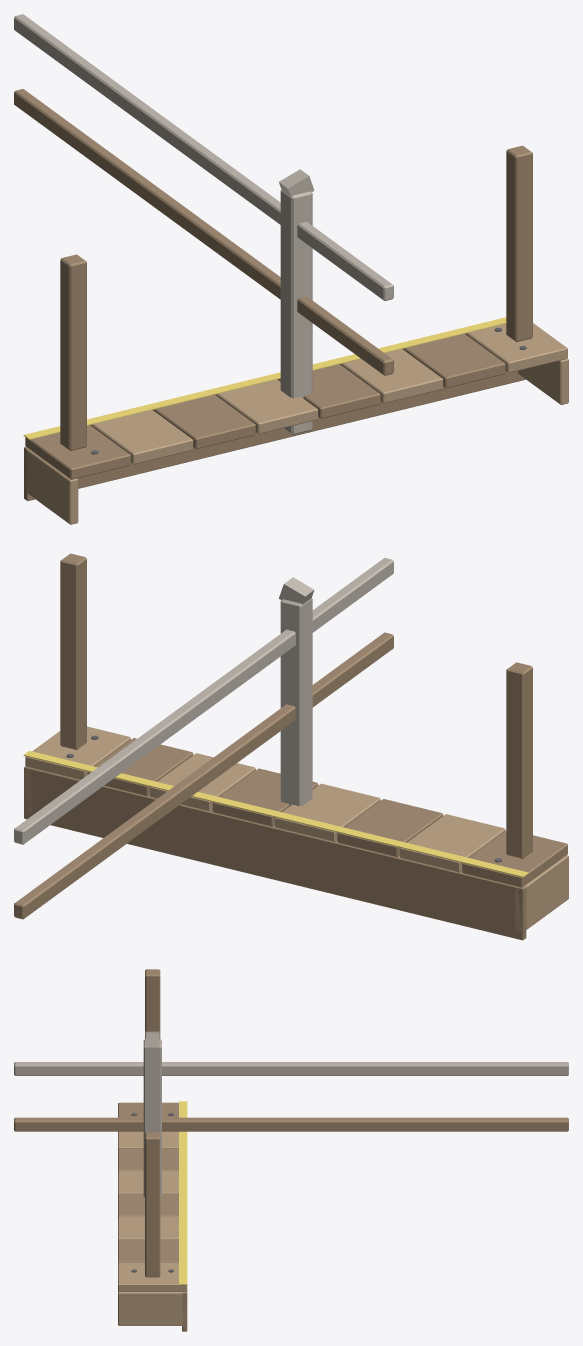
Rendered from halt_stairs.glb.
3 renders of one model, top to bottom at view 1: azimuth 30°, elevation 25°; view 2: azimuth 150°, elevation 25°; view 3: azimuth 270°, elevation 25°, orthographic. The views are drawn at different scales.
Visible parts, largest first — view 1: hs_step_mesh, hs_fence_mesh, hs_leg_mesh; view 2: hs_step_mesh, hs_fence_mesh, hs_leg_mesh; view 3: hs_fence_mesh, hs_step_mesh, hs_leg_mesh.
Part boxes in pixels (x1=…): hs_step_mesh: x1=23, y1=317, x2=568, y2=524; hs_fence_mesh: x1=14, y1=14, x2=393, y2=434; hs_leg_mesh: x1=60, y1=145, x2=532, y2=450; hs_step_mesh: x1=23, y1=726, x2=568, y2=940; hs_fence_mesh: x1=14, y1=558, x2=393, y2=919; hs_leg_mesh: x1=60, y1=553, x2=532, y2=858; hs_fence_mesh: x1=14, y1=1031, x2=568, y2=1196; hs_step_mesh: x1=118, y1=1101, x2=187, y2=1331; hs_leg_mesh: x1=145, y1=969, x2=160, y2=1277.
Bounding box in the file's own units: 2.8 × 1.5 × 3.6.
